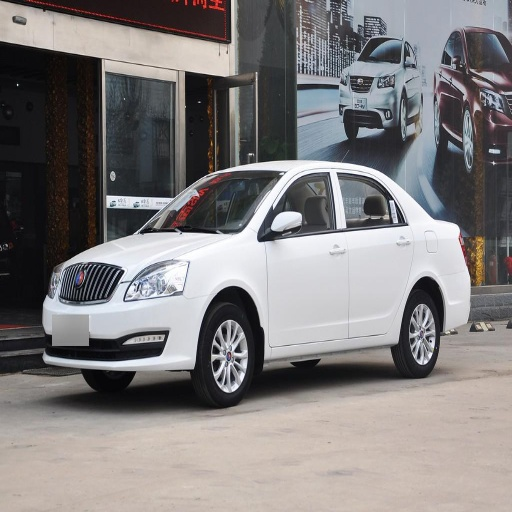back_left_door: (335, 168, 414, 334)
front_bumper: (42, 261, 208, 369)
front_glass: (141, 172, 280, 233)
front_left_door: (263, 170, 348, 344)
